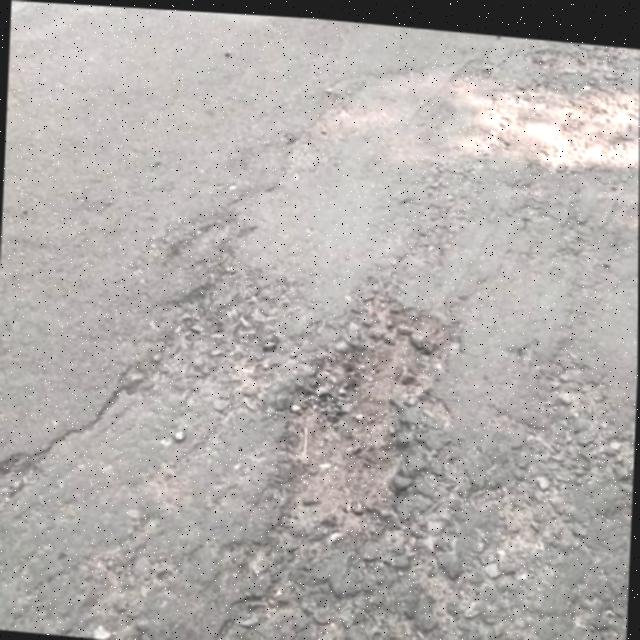Pothole: (268, 279, 471, 550), (167, 266, 287, 376)
